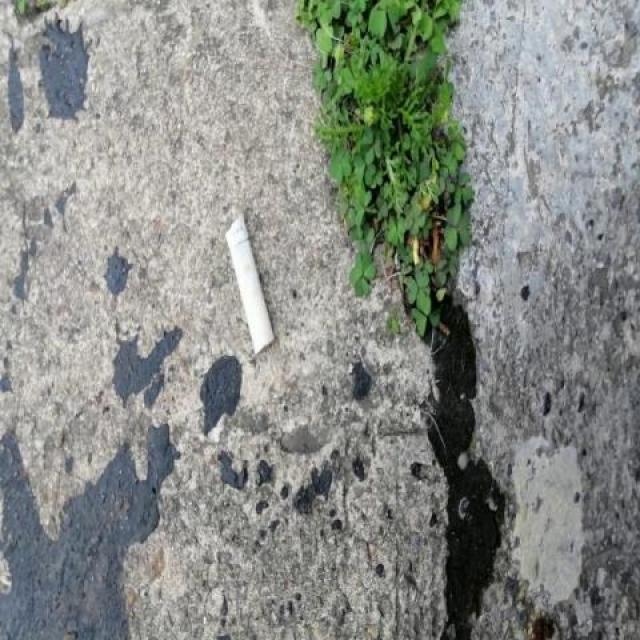non-organic waste: (221, 205, 278, 356)
